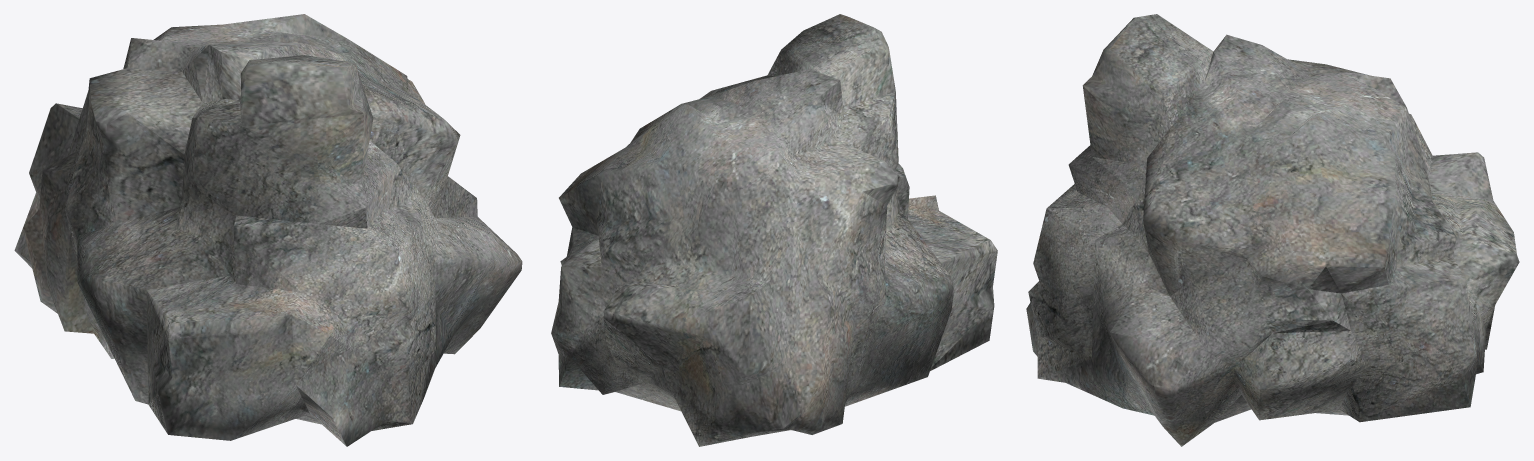
The model's file is BigRock4.glb.
3 renders of one model, left to right at view 1: azimuth 30°, elevation 25°; view 2: azimuth 150°, elevation 25°; view 3: azimuth 270°, elevation 25°, orthographic. The views are drawn at different scales.
Visible parts, largest first — view 1: BigRockD; view 2: BigRockD; view 3: BigRockD.
Boxes of the visible parts, x1,y1,x2,y2 form: BigRockD: [14, 14, 522, 446]; BigRockD: [551, 14, 997, 446]; BigRockD: [1026, 14, 1519, 446].
Bounding box in the file's own units: 4.92 × 4.29 × 5.65.
1 material, 1 textured.
